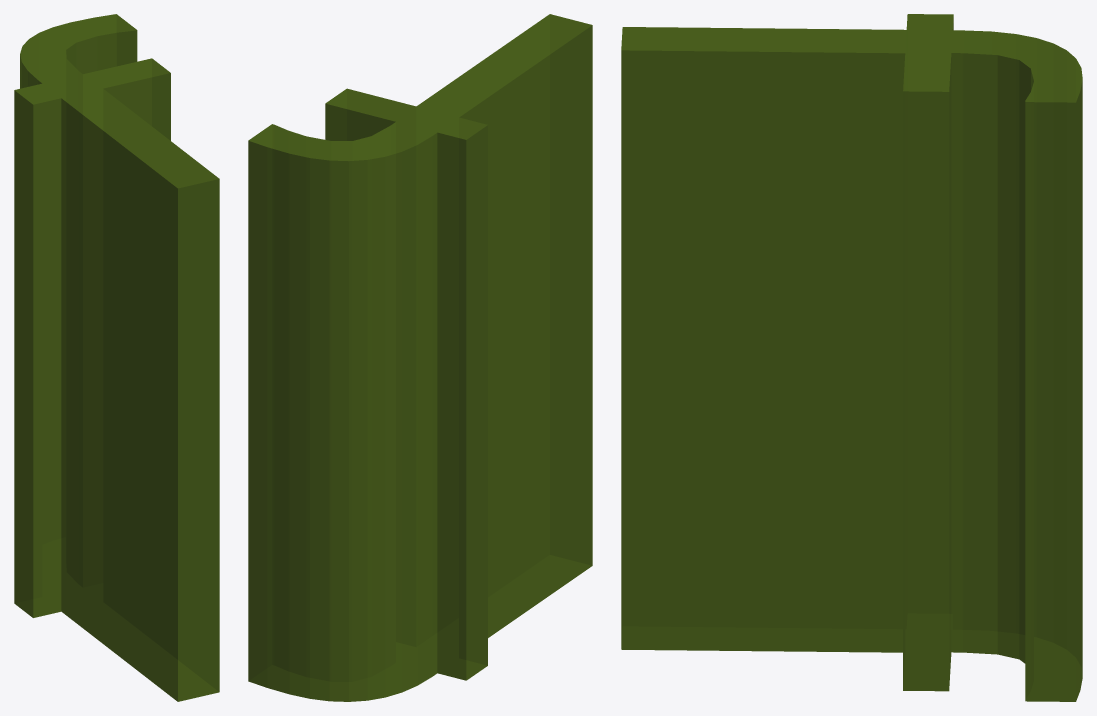
File: original-118.obj
The picture shows the model from 3 angles, left to right: view 1: azimuth 30°, elevation 25°; view 2: azimuth 150°, elevation 25°; view 3: azimuth 270°, elevation 25°; orthographic projection. The views are drawn at different scales.
Parts seen in each view (by area): view 1: mesh219/mesh219-geometry#mesh219-geometry; view 2: mesh219/mesh219-geometry#mesh219-geometry; view 3: mesh219/mesh219-geometry#mesh219-geometry.
Boxes of the visible parts, <box> form: mesh219/mesh219-geometry#mesh219-geometry: <box>14,14,219,701</box>; mesh219/mesh219-geometry#mesh219-geometry: <box>248,14,592,701</box>; mesh219/mesh219-geometry#mesh219-geometry: <box>621,14,1082,701</box>.
Size of the model in its own units: 0.00531 by 0.0167 by 0.0117.
